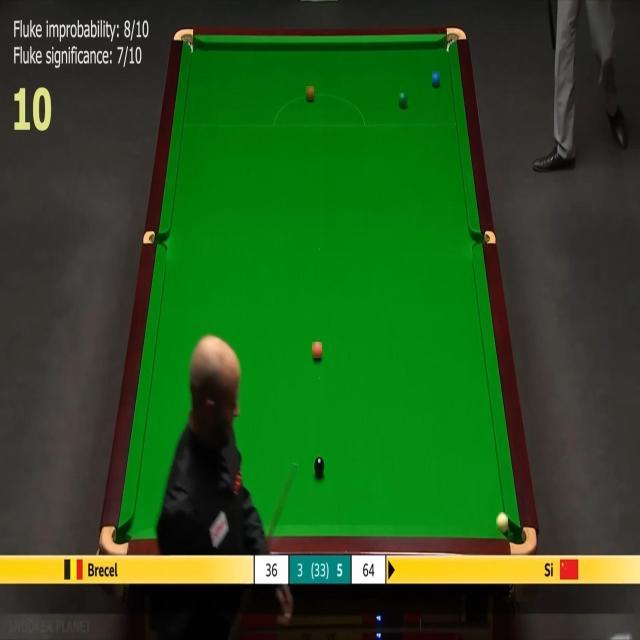Ball: (496, 512, 508, 533), (314, 456, 325, 476), (312, 342, 322, 358), (432, 71, 440, 86), (400, 94, 408, 108), (306, 86, 314, 100)
